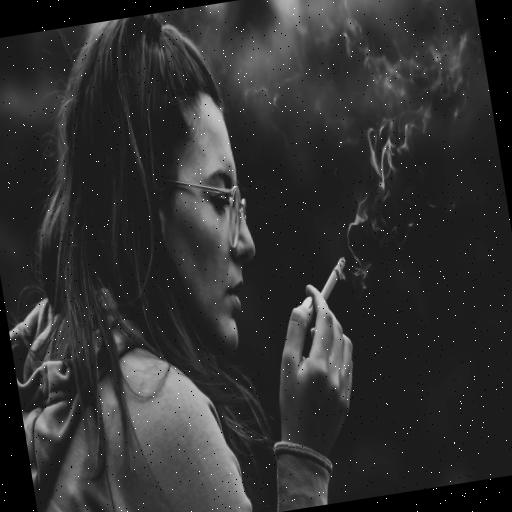pegang rokok: (246, 228, 392, 481)
